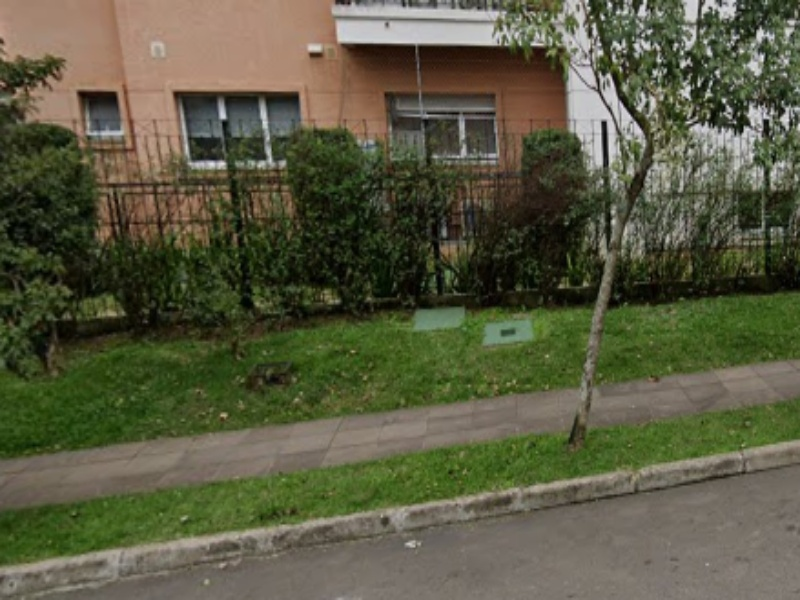v38: (15, 394, 788, 600)
